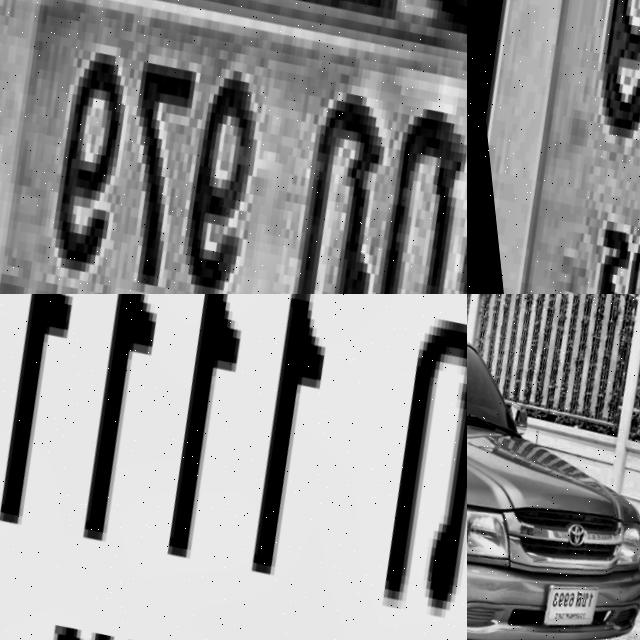license-plate: (0, 294, 467, 640), (0, 0, 467, 294), (467, 0, 640, 294), (520, 572, 598, 640)
